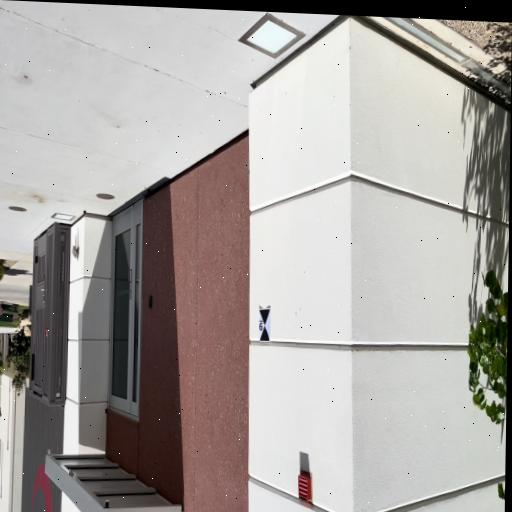target9: (259, 309, 271, 342)
